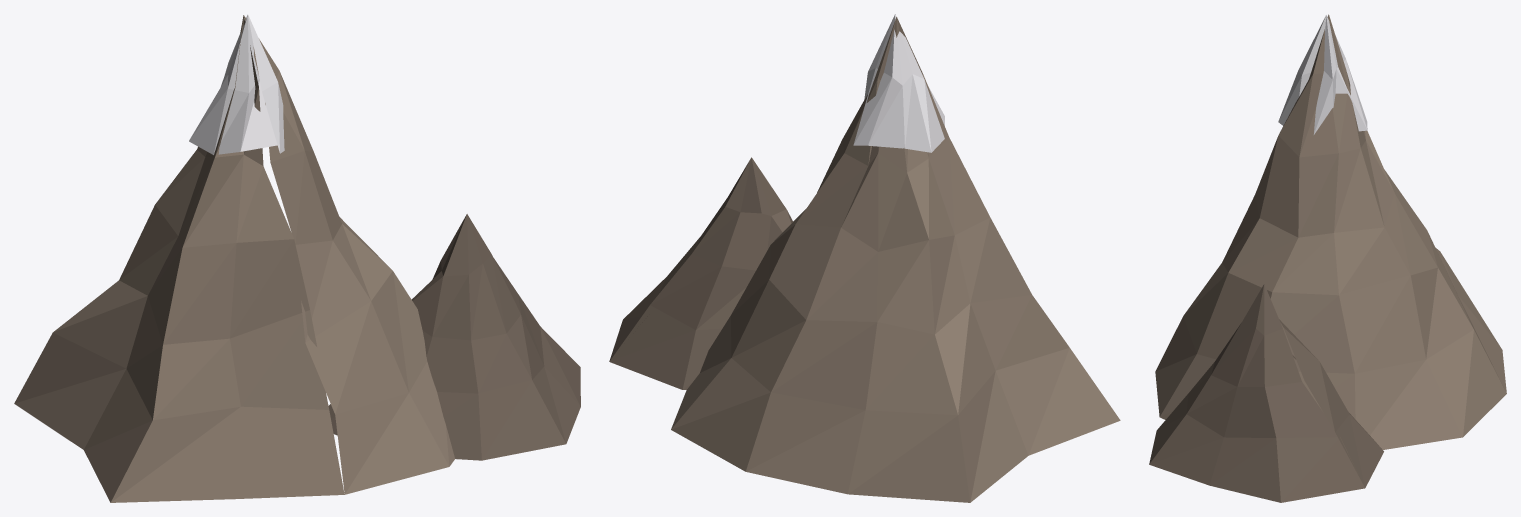
Rendered from mountain-peak-b.glb.
3 views of the same model, side by side, from view 1: azimuth 30°, elevation 25°; view 2: azimuth 150°, elevation 25°; view 3: azimuth 270°, elevation 25° (orthographic). The views are drawn at different scales.
Parts seen in each view (by area): view 1: rock, rockdark, snow; view 2: rock, rockdark, snow; view 3: rock, rockdark, snow.
Boxes of the visible parts, x1,y1,x2,y2 form: rock: (14, 15, 454, 502); rockdark: (328, 214, 580, 460); snow: (189, 14, 284, 154); rock: (671, 17, 1120, 502); rockdark: (609, 157, 793, 389); snow: (853, 14, 944, 152); rock: (1155, 14, 1506, 449); rockdark: (1149, 284, 1383, 502); snow: (1278, 15, 1367, 134).
Bounding box in the file's own units: 140 × 112 × 101.
